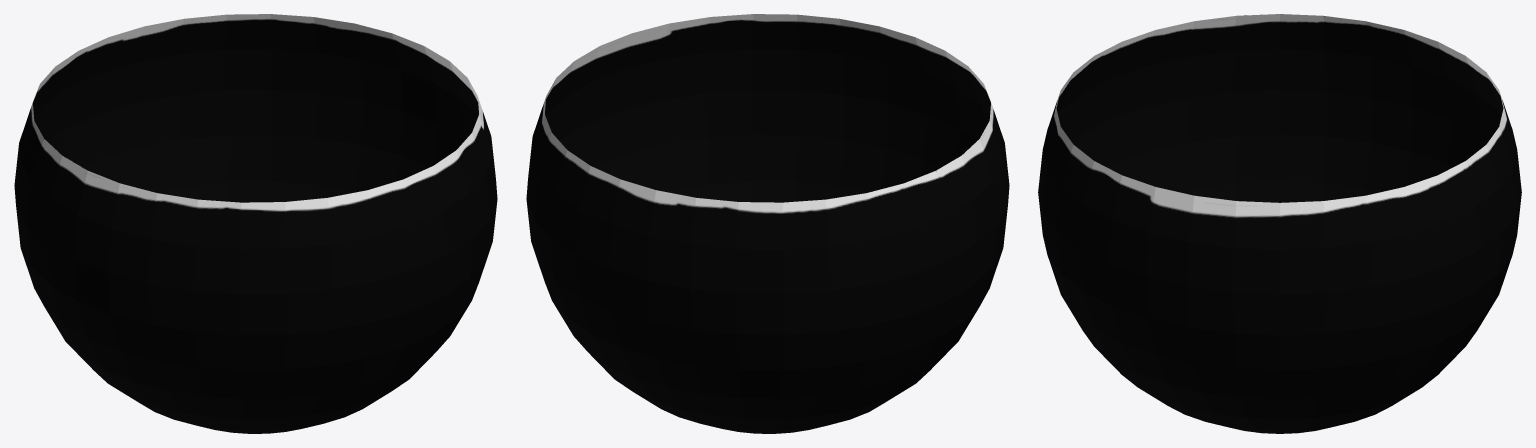
Rendered from stagedome.obj.
The picture shows the model from 3 angles, left to right: view 1: azimuth 30°, elevation 25°; view 2: azimuth 150°, elevation 25°; view 3: azimuth 270°, elevation 25°; orthographic projection.
Parts seen in each view (by area): view 1: 球; view 2: 球; view 3: 球.
Boxes of the visible parts, x1,y1,x2,y2 form: 球: [14, 14, 497, 433]; 球: [526, 14, 1009, 433]; 球: [1038, 14, 1521, 433].
Size of the model in its own units: 900 by 622 by 900.
